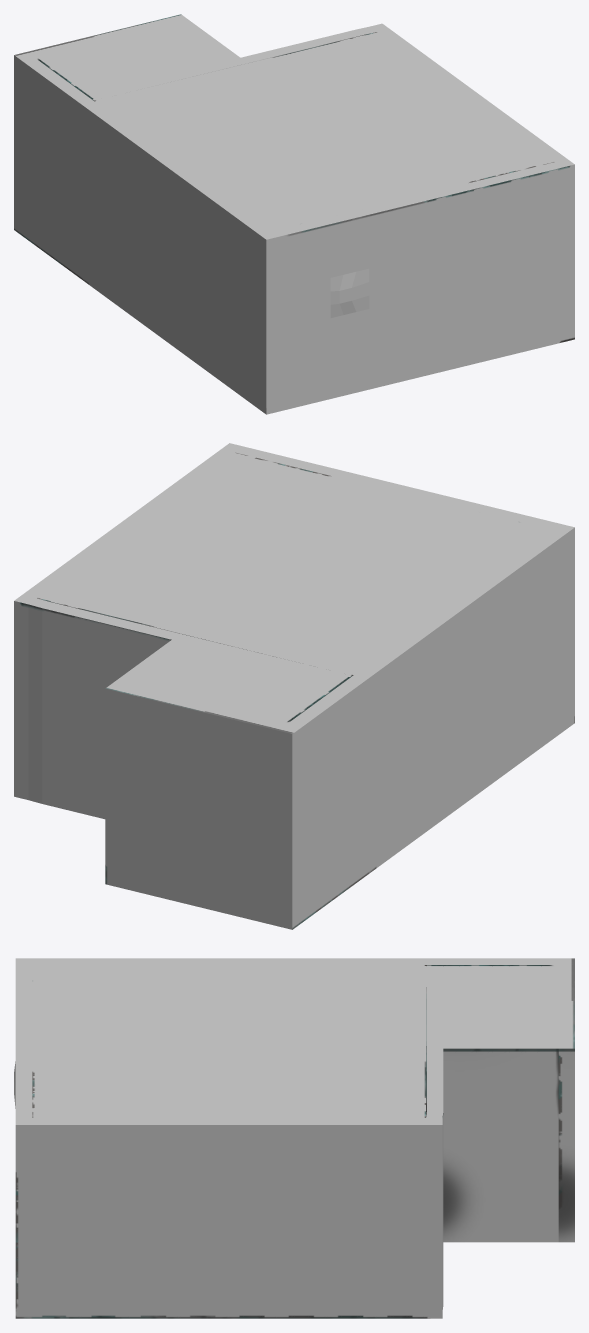
File: VR Room 1.fbx
3 views of the same model, one above another, from view 1: azimuth 30°, elevation 25°; view 2: azimuth 150°, elevation 25°; view 3: azimuth 270°, elevation 25° (orthographic). The views are drawn at different scales.
Visible parts, largest first — view 1: Cube; view 2: Cube; view 3: Cube.
Boxes of the visible parts, x1,y1,x2,y2 form: Cube: (14,14,574,414); Cube: (14,443,574,929); Cube: (14,958,574,1318).
Bounding box in the file's own units: 4800 × 2621 × 6821.
Materials: 1 (1 with a texture image).
